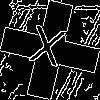X: (25, 25, 68, 76)
